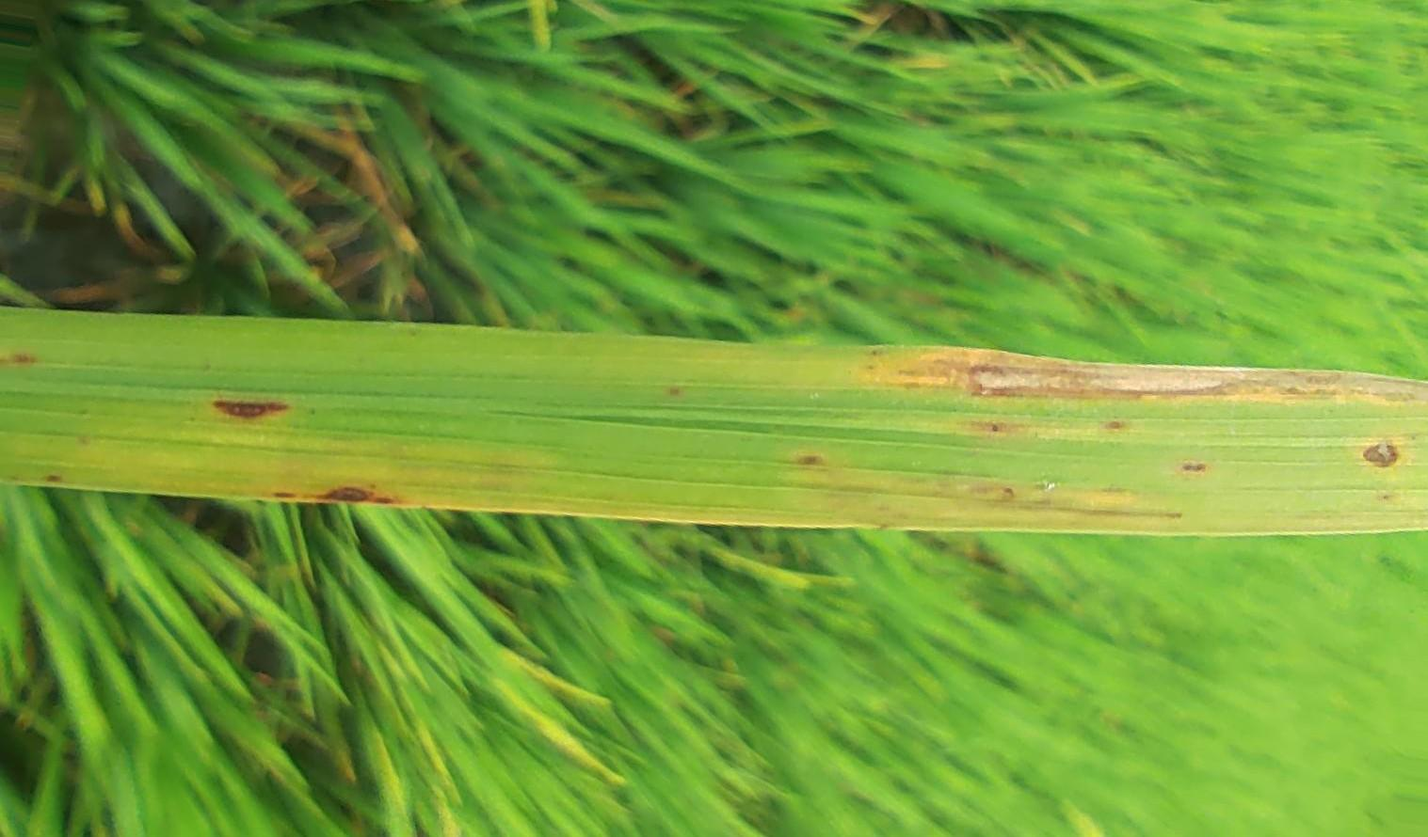LEAF: (0, 308, 1427, 535)
LEAF BLAST: (965, 361, 1426, 403), (215, 401, 287, 418), (1363, 441, 1399, 466), (315, 487, 370, 503)
